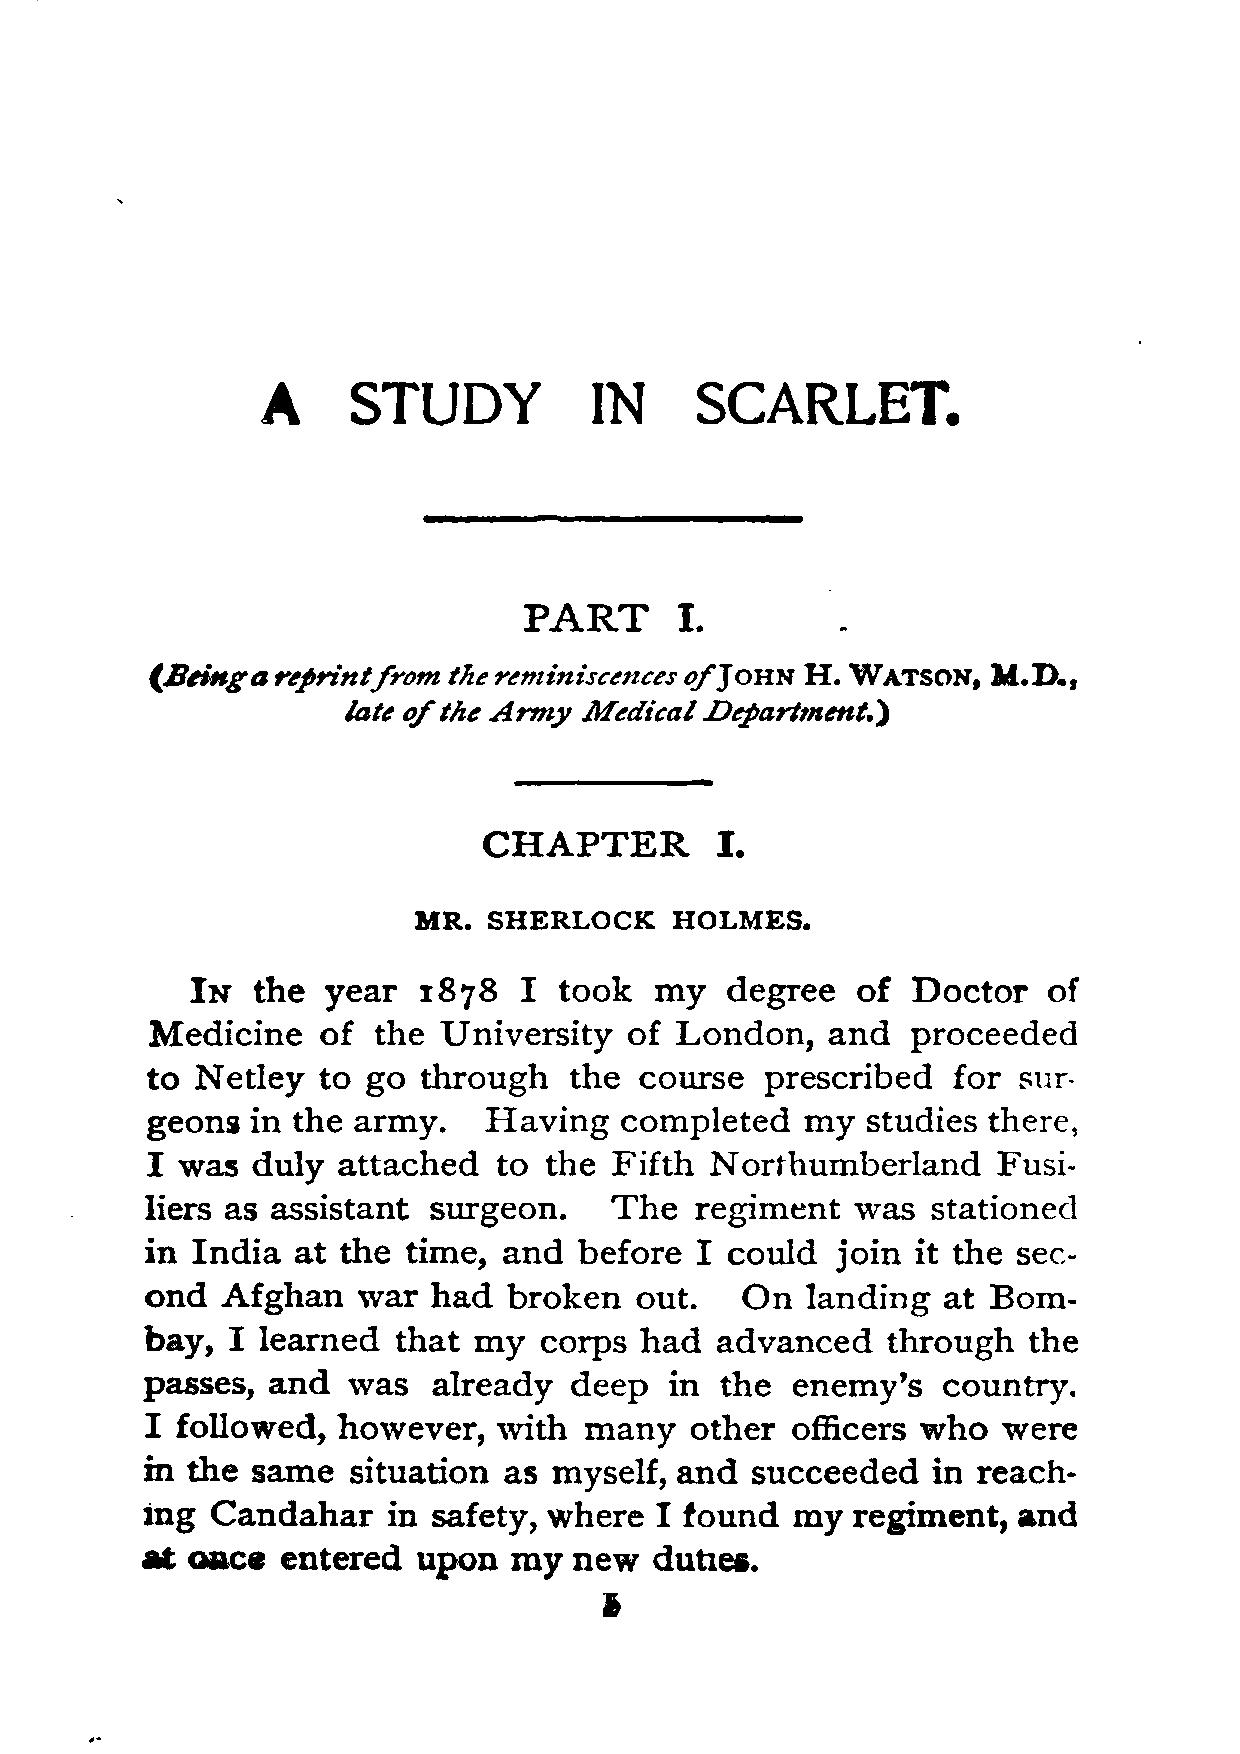chapter: (144, 600, 1078, 729), (411, 829, 812, 933), (256, 378, 964, 428)
content: (140, 973, 1082, 1584)
content_pagenumber: (597, 1588, 623, 1624)
